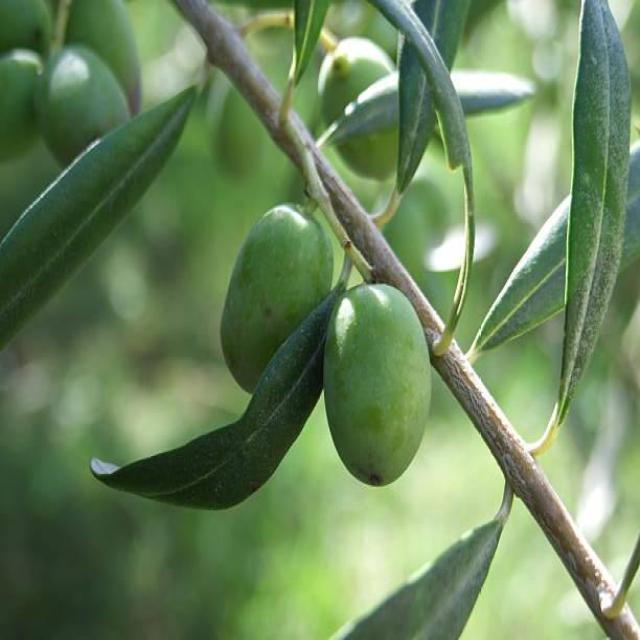Healthy: (91, 279, 345, 509), (0, 86, 195, 349), (561, 0, 631, 420), (333, 503, 508, 639), (325, 284, 431, 485), (222, 204, 333, 393)
